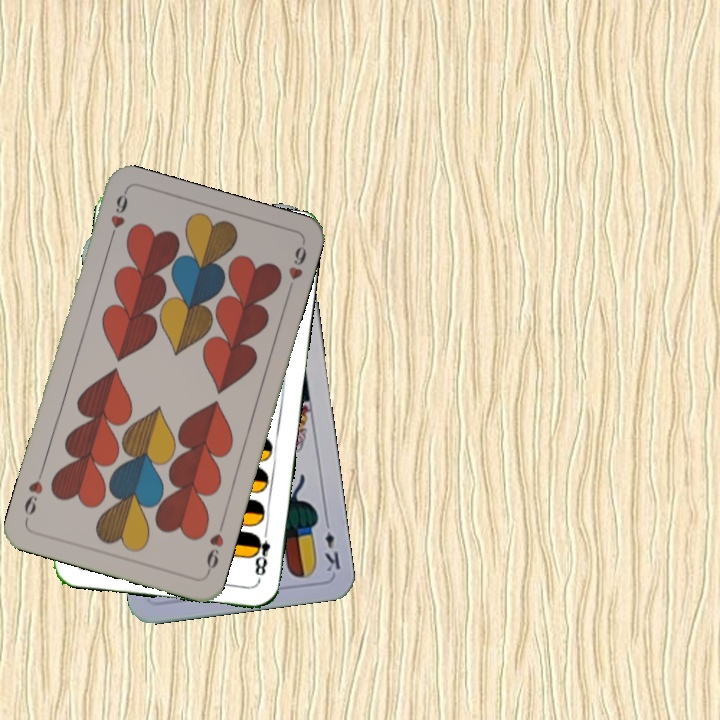E8: (248, 524, 273, 583)
EK: (320, 515, 343, 574)
H9: (104, 189, 131, 247), (202, 519, 227, 577)
